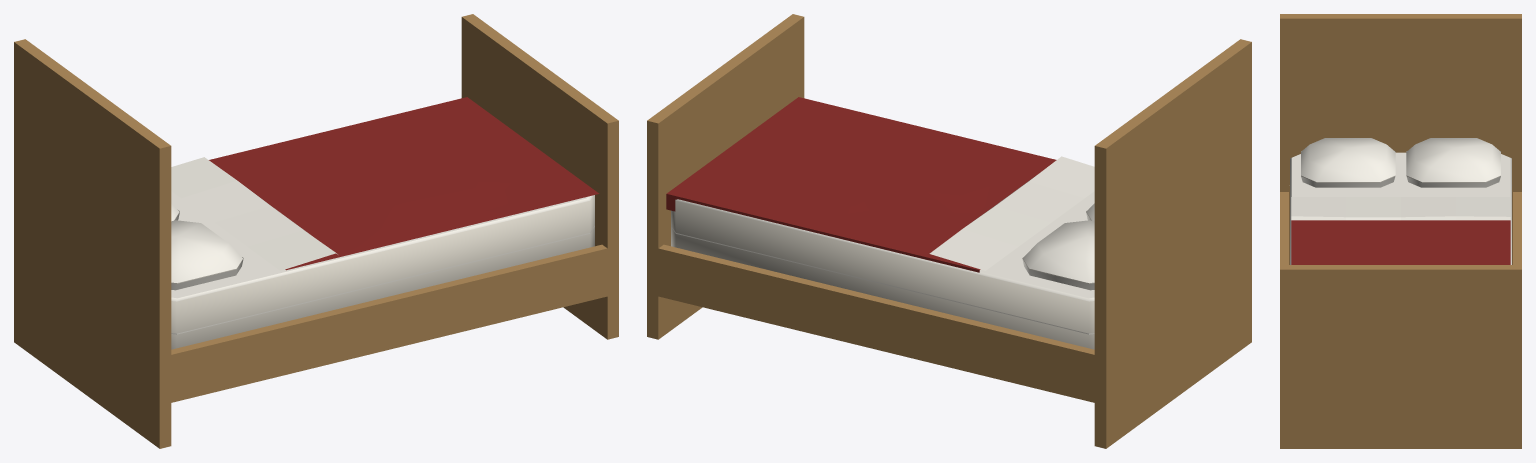
File: parametric-bed-2nd-pub.glb
3 views of the same model, side by side, from view 1: azimuth 30°, elevation 25°; view 2: azimuth 150°, elevation 25°; view 3: azimuth 270°, elevation 25° (orthographic). The views are drawn at different scales.
Parts seen in each view (by area): view 1: parametric-bed-2nd-pub; view 2: parametric-bed-2nd-pub; view 3: parametric-bed-2nd-pub.
Boxes of the visible parts, x1,y1,x2,y2 form: parametric-bed-2nd-pub: [14, 14, 618, 448]; parametric-bed-2nd-pub: [647, 14, 1251, 448]; parametric-bed-2nd-pub: [1280, 14, 1521, 448].
Bounding box in the file's own units: 2 × 1.25 × 1.1.
